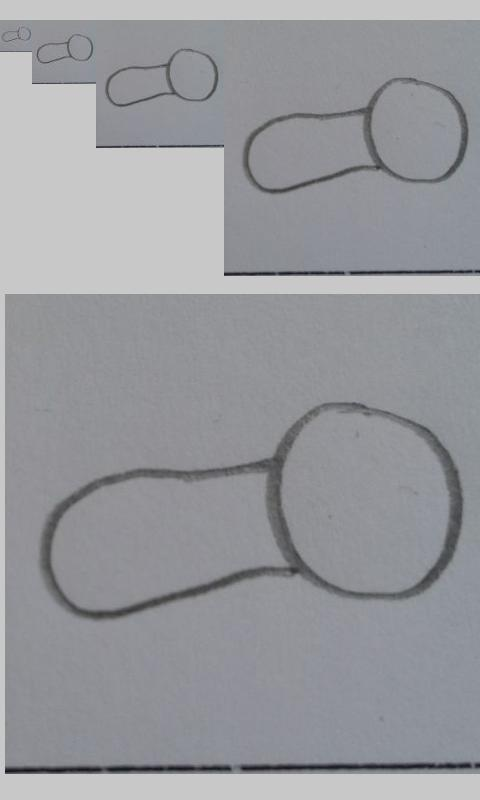switch: (38, 402, 464, 620), (242, 77, 469, 195), (104, 48, 220, 108), (36, 34, 94, 64), (1, 26, 32, 42)
